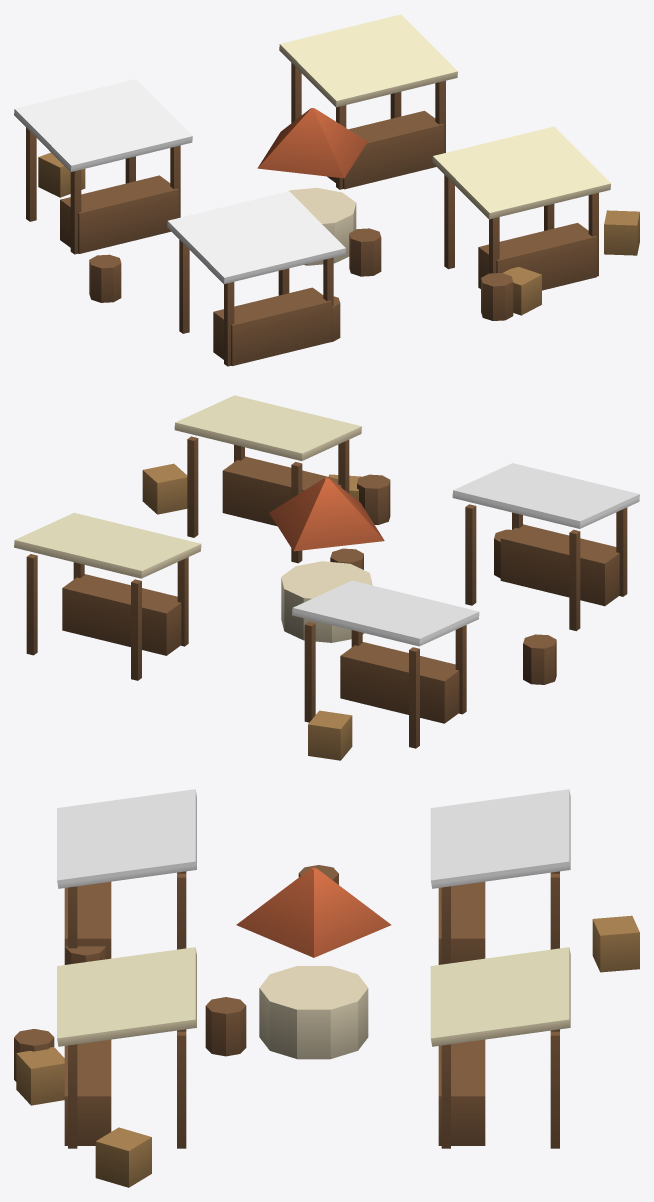
The model's file is MARKET_ME.glb.
3 views of the same model, one above another, from view 1: azimuth 30°, elevation 25°; view 2: azimuth 150°, elevation 25°; view 3: azimuth 270°, elevation 25° (orthographic). The views are drawn at different scales.
Visible parts, largest first — view 1: Body; view 2: Body; view 3: Body.
Boxes of the visible parts, x1,y1,x2,y2 form: Body: (14, 14, 639, 366); Body: (14, 395, 639, 760); Body: (14, 789, 639, 1187).
Bounding box in the file's own units: 4.26 × 1.2 × 4.02.
1 material, 1 textured.
